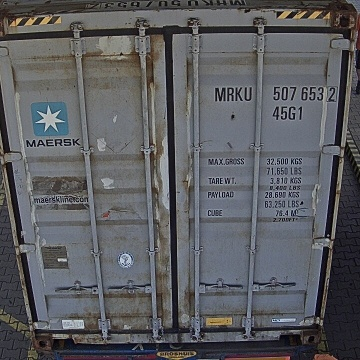serial_id: (215, 85, 337, 101)
